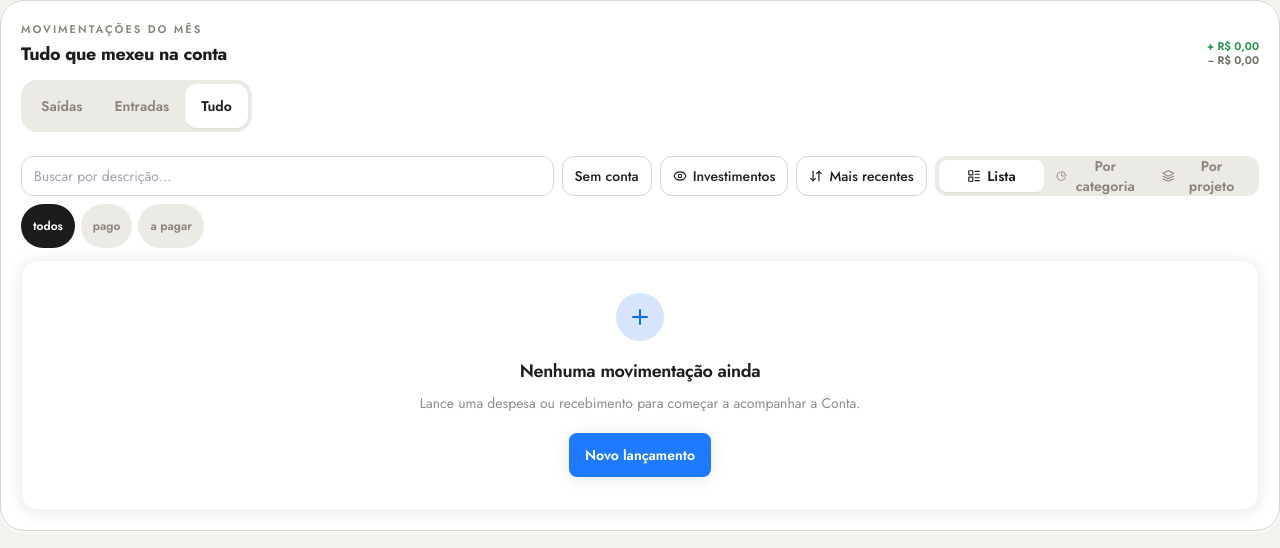
Test: MovimentacoesSection — CTA do vazio genuíno (#218) › 2a) raw vazio + aba Saídas → SEM CTA (guard: tab === "tudo")
Step 1. Click the button "Saídas" → (62, 106), box [25,84,98,128]
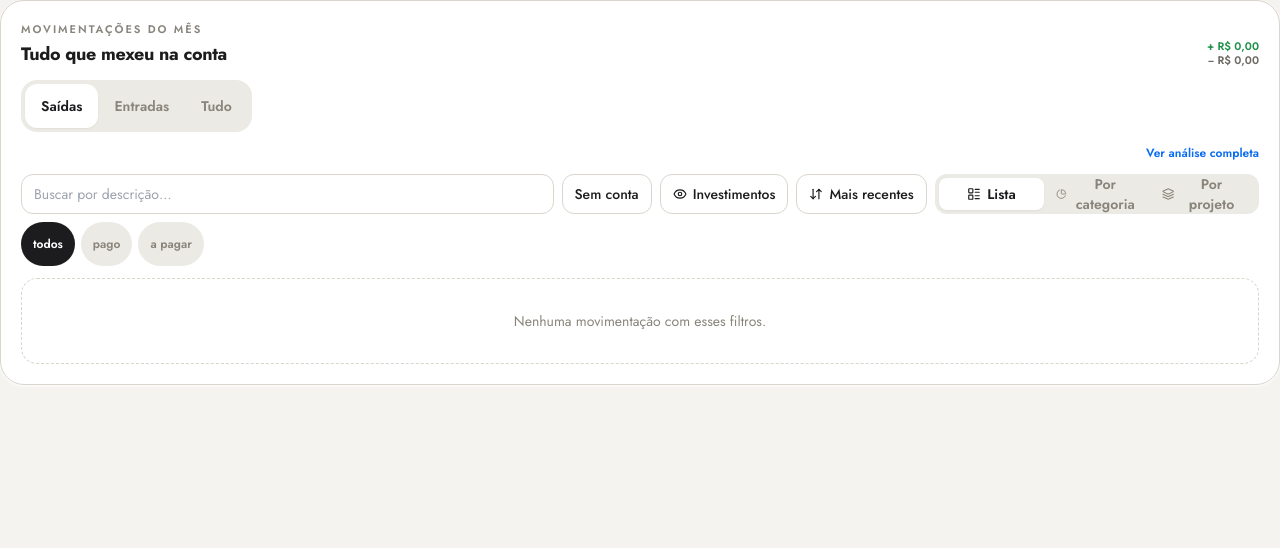
Check: the button "Novo lançamento" is gone
